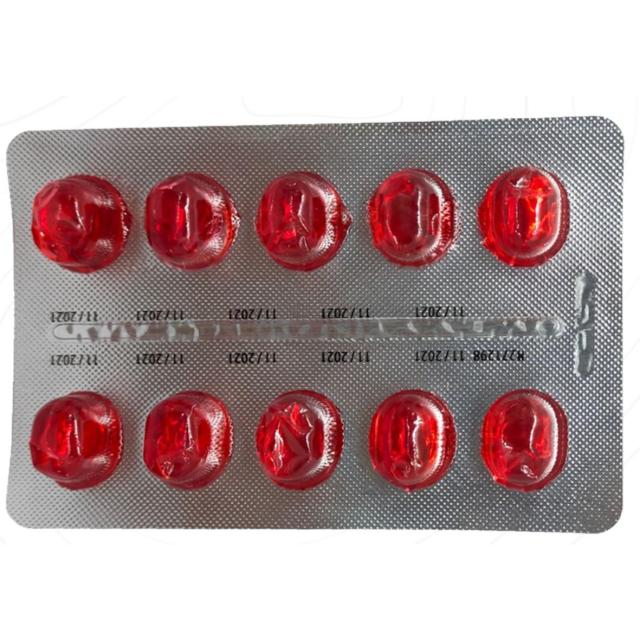blister: (5, 112, 630, 540)
